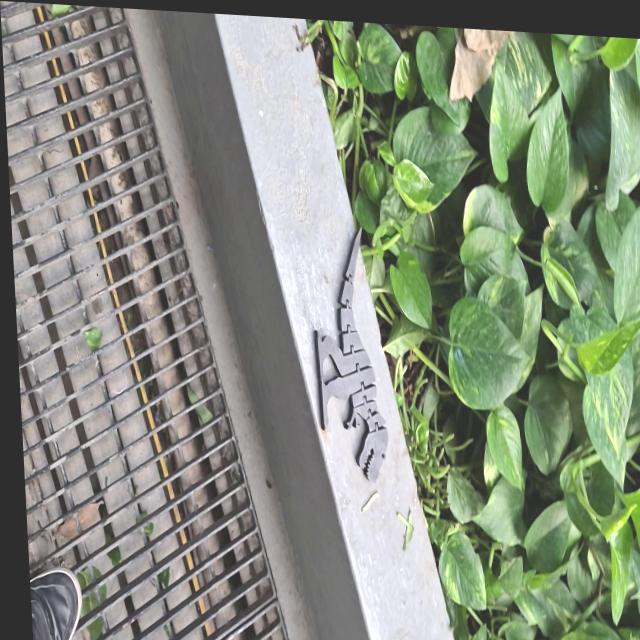dino: (308, 221, 391, 485)
